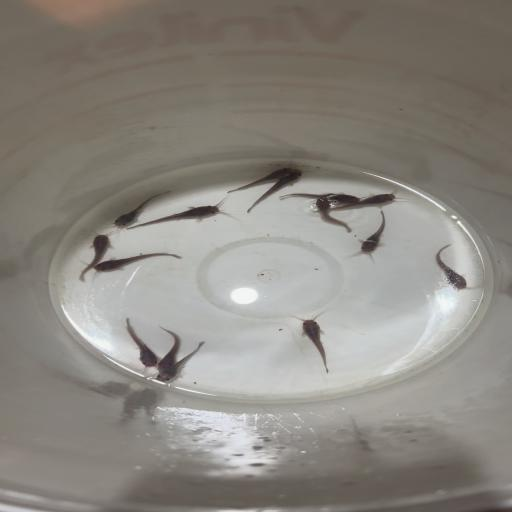lele: (124, 200, 228, 232), (244, 168, 304, 217), (288, 311, 334, 374), (104, 188, 176, 228), (72, 230, 115, 282), (92, 251, 183, 275), (157, 341, 206, 385), (222, 165, 296, 193), (122, 315, 158, 369), (433, 242, 470, 291), (354, 210, 389, 258), (331, 190, 401, 214), (310, 195, 353, 234), (152, 326, 184, 371), (276, 190, 360, 202)
